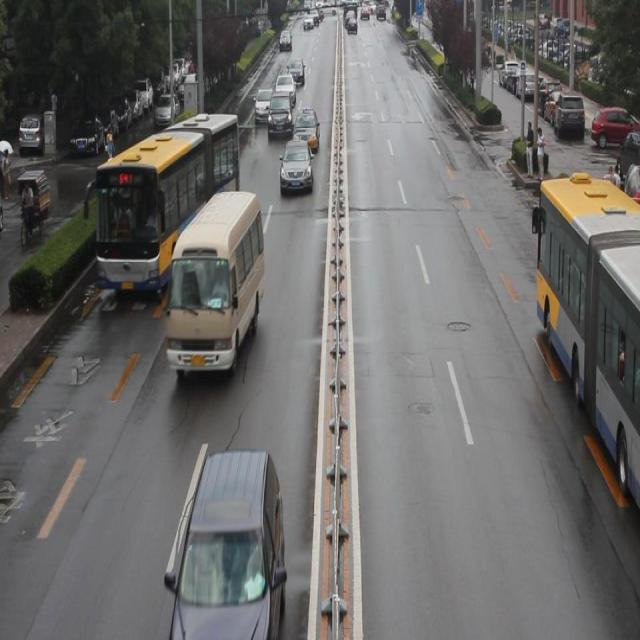car: (173, 450, 286, 634), (108, 151, 173, 210), (279, 135, 312, 196), (183, 122, 216, 172), (266, 91, 292, 138), (292, 107, 317, 151), (254, 84, 277, 125)
truck: (171, 194, 262, 375)
van: (531, 183, 640, 519), (92, 116, 239, 294)
